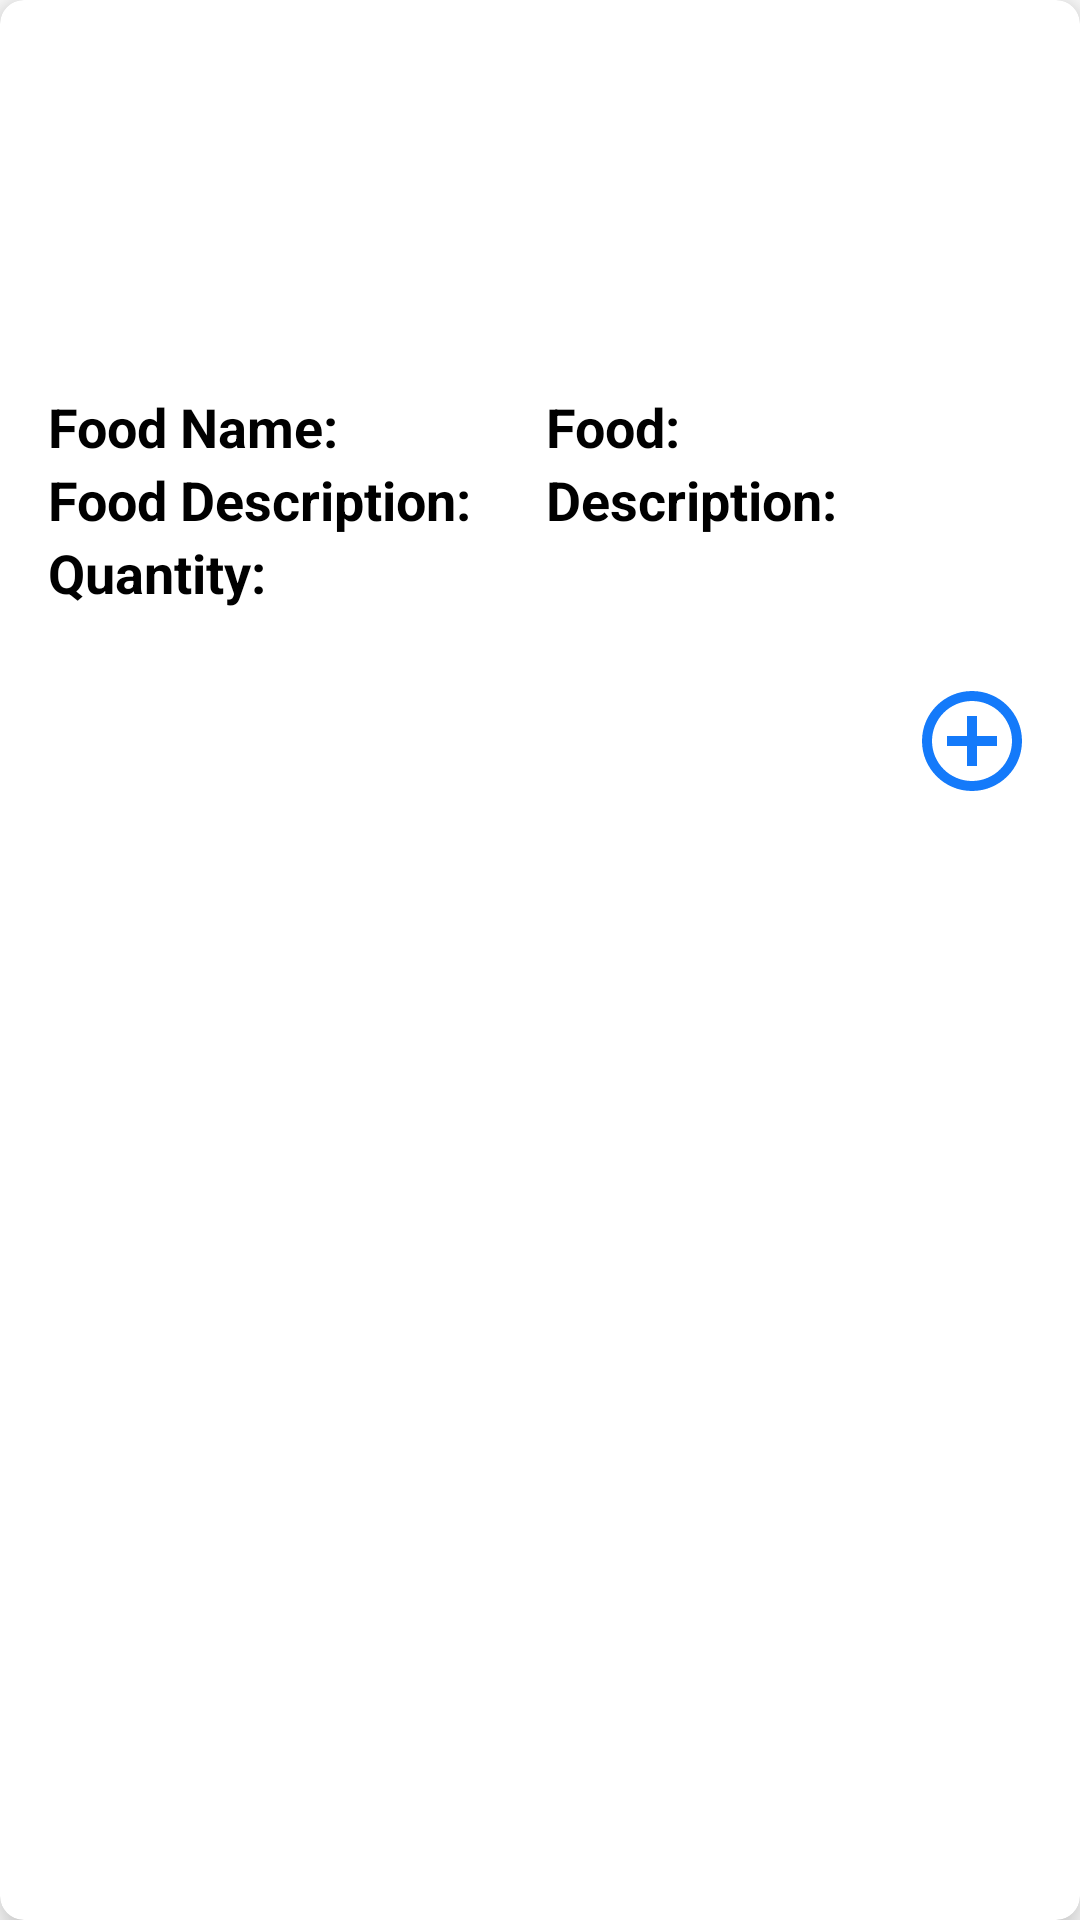

Screen size 1080×1920. Icon name, then its center in pixels as [x,y]:
add circle: [972,741]
